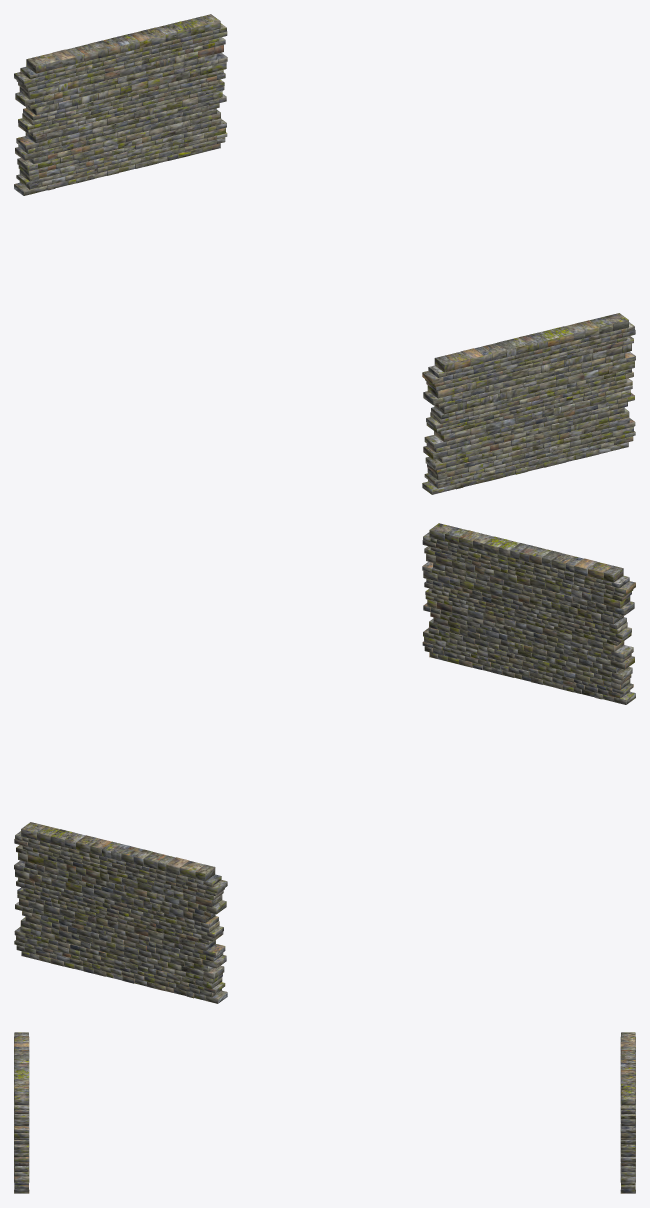
The model's file is bottombit.fbx.
3 renders of one model, top to bottom at view 1: azimuth 30°, elevation 25°; view 2: azimuth 150°, elevation 25°; view 3: azimuth 270°, elevation 25°, orthographic. The views are drawn at different scales.
Visible parts, largest first — view 1: Wall.035; view 2: Wall.035; view 3: Wall.035.
Part boxes in pixels (x1,y1,x2,y2): Wall.035: (14,14,635,494); Wall.035: (14,523,635,1003); Wall.035: (14,1032,635,1193).
Size of the model in its own units: 2524 by 1503 by 8969.
